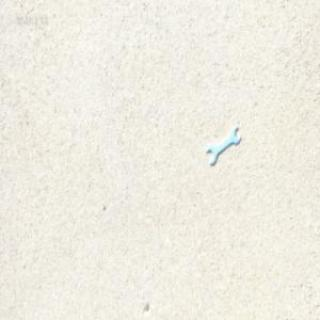Wrenchtrack_idkeyframe: (205, 126, 238, 164)
